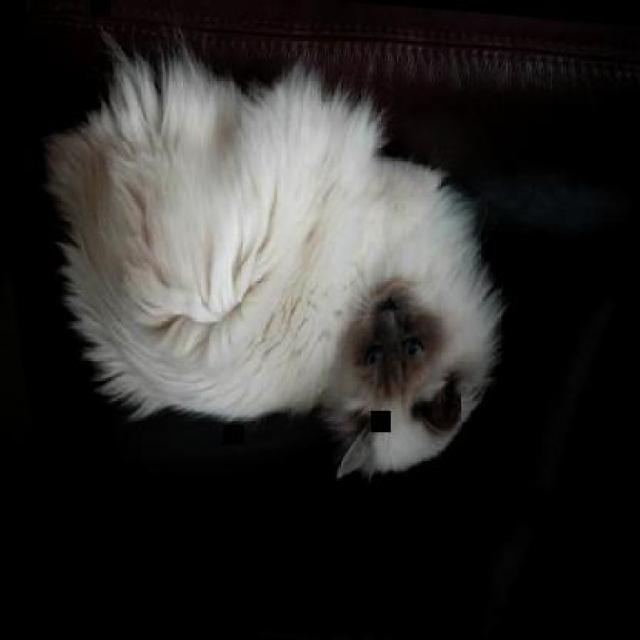cat: (19, 39, 524, 492)
